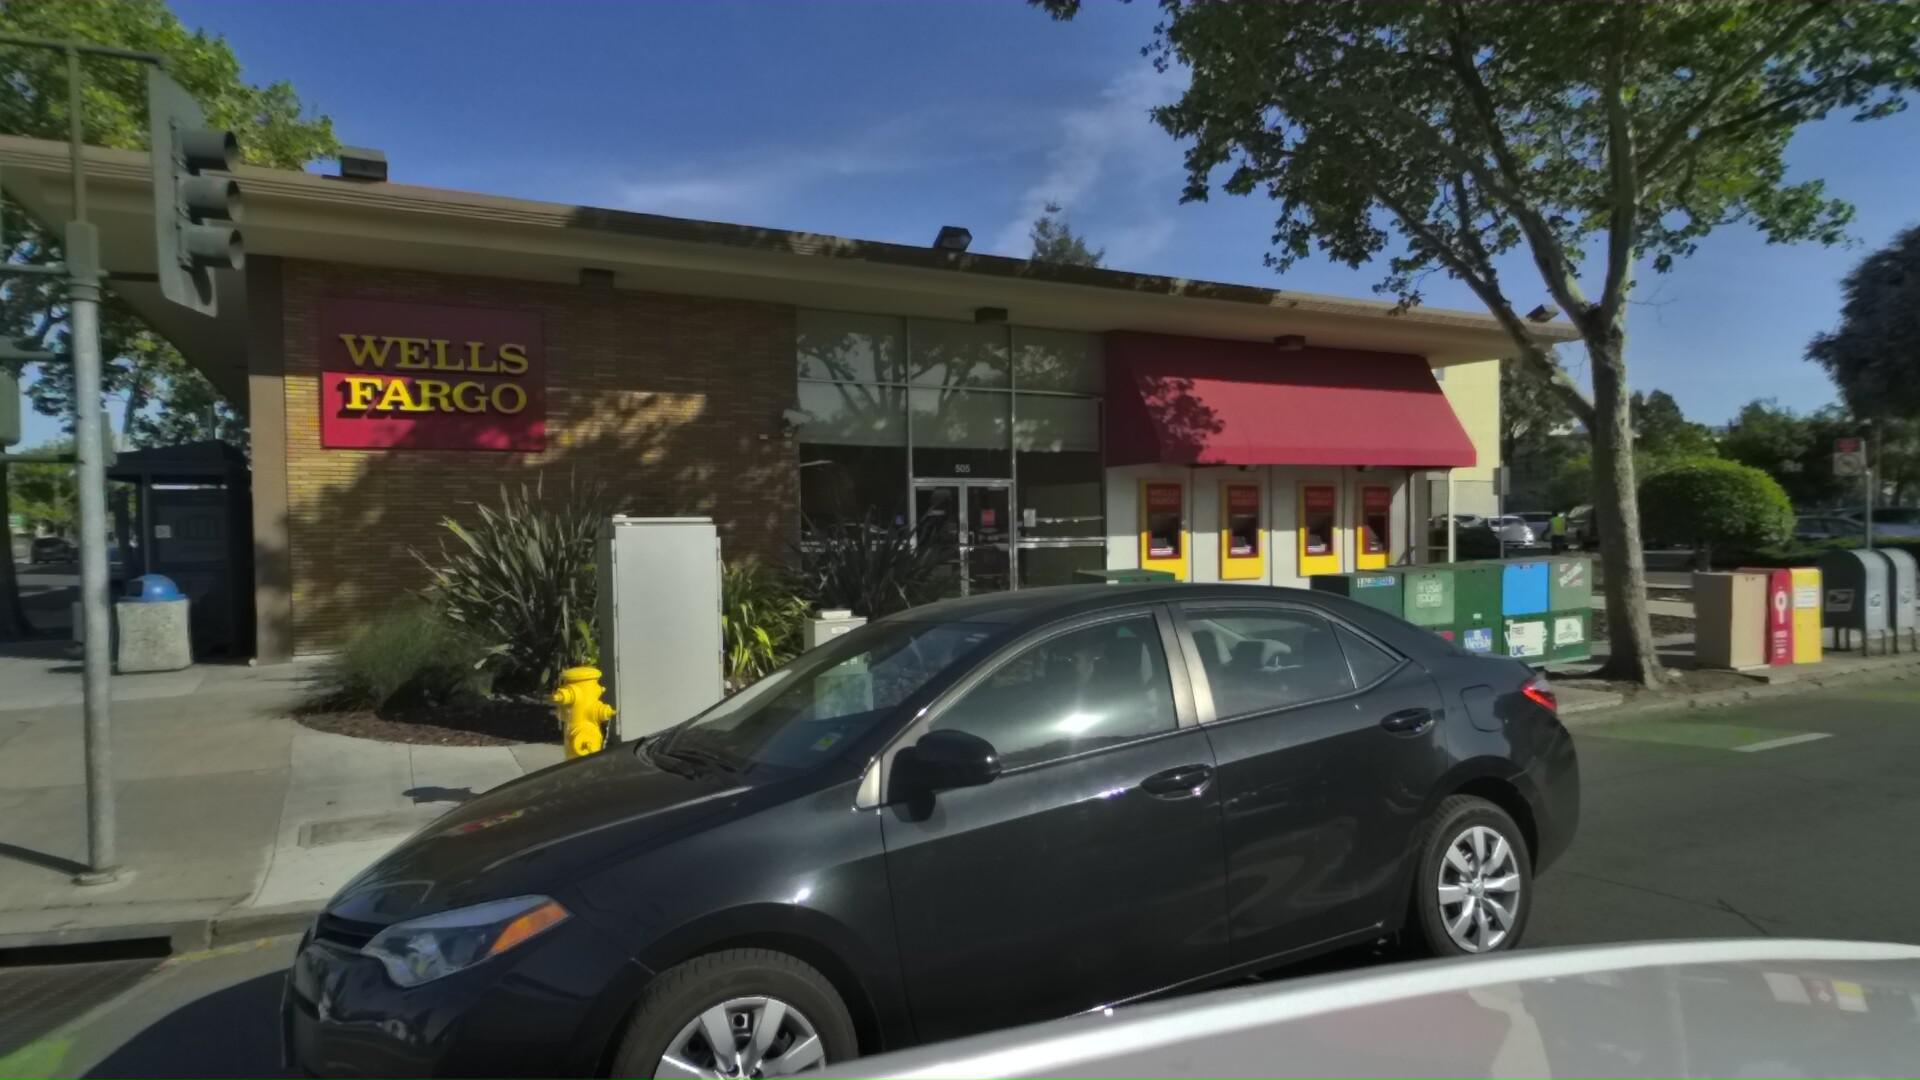car: (142, 534, 1643, 1080), (1717, 506, 1920, 566), (1801, 496, 1920, 555), (88, 538, 175, 591), (189, 524, 253, 568), (28, 529, 94, 562), (1917, 493, 1920, 549)
